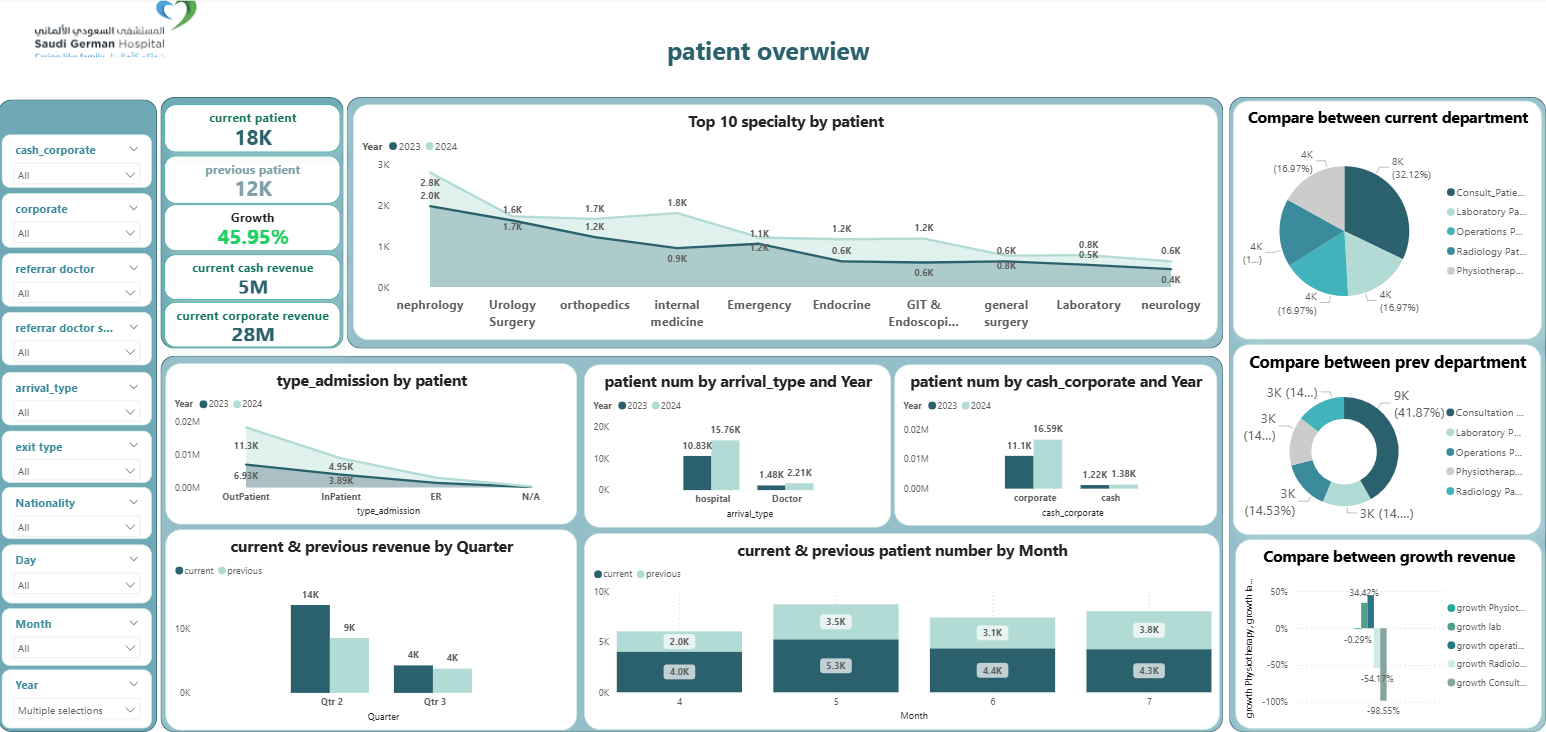

What the dashboard file says about the page in this screenshot:
{"tool":"powerbi","page":{"name":"patient Overview ","canvas":[2000,950],"ordinal":2},"visuals":[{"type":"shape","box":[210.1,463.4,1371.5,485.9],"z":0},{"type":"shape","box":[1589.1,129.5,409,819.9],"z":1000},{"type":"shape","box":[450.3,129.5,1131.3,324.6],"z":2000},{"type":"shape","box":[210.1,129.5,236.4,324.6],"z":3000},{"type":"shape","box":[0,132.9,205.4,816.4],"z":4000},{"type":"slicer","fields":{"Values":["Table1.Day"]},"box":[5.2,706,193.3,75.9],"z":5000},{"type":"slicer","fields":{"Values":["Table1.cash_corporate"]},"box":[5.2,177.8,193.3,69],"z":6000},{"type":"slicer","fields":{"Values":["Table1.corporate"]},"box":[5.2,253.7,193.3,70.8],"z":7000},{"type":"slicer","fields":{"Values":["Table1.arrival_type"]},"box":[5.2,483.3,193.3,69],"z":8000},{"type":"slicer","fields":{"Values":["Table1.Nationality"]},"box":[5.2,631.7,193.3,67.3],"z":9000},{"type":"slicer","fields":{"Values":["Table1.exit type"]},"box":[5.2,559.2,193.3,67.3],"z":10000},{"type":"slicer","fields":{"Values":["Table1.referrar doctor specialty"]},"box":[5.2,407.3,193.3,69],"z":11000},{"type":"card","title":"previous patient","fields":{"Values":["Table1.previous"]},"box":[213.9,204.5,227,61.9],"z":12000},{"type":"card","title":"current patient","fields":{"Values":["Table1.current"]},"box":[213.9,138.8,227,61.9],"z":13000},{"type":"card","title":"Growth","fields":{"Values":["Table1.Growth file"]},"box":[213.9,268.3,227,60],"z":14000},{"type":"clusteredColumnChart","title":"current & previous revenue by Quarter","fields":{"Category":["Table1.Quarter"],"Y":["Table1.current","Table1.previous"]},"box":[215.8,686.7,531,258.9],"z":15000},{"type":"slicer","fields":{"Values":["Table1.Month"]},"box":[5.2,788.8,193.3,74.2],"z":16000},{"type":"slicer","fields":{"Values":["Table1.Year"]},"box":[5.2,868.2,193.3,75.9],"z":17000},{"type":"slicer","fields":{"Values":["Table1.referrar doctor"]},"box":[5.2,331.4,193.3,69],"z":18000},{"type":"card","title":"current cash revenue","fields":{"Values":["Table1.total- current revenue"]},"box":[213.9,332.1,227,58.2],"z":19000},{"type":"card","title":"current corporate revenue","fields":{"Values":["Table1.total- current revenue"]},"box":[213.9,394,227,58.2],"z":20000},{"type":"lineStackedColumnComboChart","title":" current & previous patient number by Month","fields":{"Category":["Table1.Month"],"Y":["Table1.current","Table1.previous"]},"box":[756.1,692.3,819.9,253.3],"z":21000},{"type":"areaChart","title":"Top 10 specialty by patient ","fields":{"Category":["Table1.referrar doctor specialty"],"Series":["Table1.Year"],"Y":["CountNonNull(Table1.file number)"]},"box":[457.8,138.8,1116.3,303.9],"z":22000},{"type":"clusteredColumnChart","title":"patient num  by arrival_type and Year","fields":{"Category":["Table1.arrival_type"],"Series":["Table1.Year"],"Y":["CountNonNull(Table1.file number)"]},"box":[756.1,474.7,395.9,210.1],"z":23000},{"type":"clusteredColumnChart","title":"patient num by cash_corporate and Year","fields":{"Category":["Table1.cash_corporate"],"Series":["Table1.Year"],"Y":["CountNonNull(Table1.file number)"]},"box":[1157.6,474.7,416.5,208.3],"z":24000},{"type":"stackedAreaChart","title":" type_admission by  patient","fields":{"Category":["Table1.type_admission"],"Series":["Table1.Year"],"Y":["CountNonNull(Table1.file number)"]},"box":[215.8,472.8,531,208.3],"z":25000},{"type":"pieChart","title":"Compare between  current department","fields":{"Y":["Table1.Consult_PatientCount_Current","Table1.Laboratory PatientCount_Current","Table1.Operations Patient Count_Current","Table1.Radiology Patient Count_Current","Table1.Physiotherapy Patient Count_Current"]},"box":[1594.1,133.9,398.5,308.2],"z":26000},{"type":"donutChart","title":"Compare between prev department","fields":{"Y":["Table1.Consultation PatientCount_previous","Table1.Laboratory PatientCount_previous","Table1.Operations Patient Count_previous","Table1.Physiotherapy Patient Count_previous","Table1.Radiology Patient Count_previous"]},"box":[1594.7,448.4,397.7,245.8],"z":27000},{"type":"shape","box":[566.9,25.4,897.5,83.6],"z":28000},{"type":"image","box":[0,0,303.9,82.6],"z":29000},{"type":"clusteredColumnChart","title":"Compare between growth revenue","fields":{"Y":["Table1.growth Physiotherapy","Table1.growth lab","Table1.growth operation","Table1.growth Radiology","Table1.growth Consultation"]},"box":[1597.3,700.2,395.3,243.6],"z":30000}]}

Visuals, with their boxes in screenshot pixels (x1, y1, x2, y2), scaled from the page's 2000x950 canvas onto the 1546x732 screenshot:
shape: [162,357,1223,731]
shape: [1228,100,1545,731]
shape: [348,100,1223,350]
shape: [162,100,345,350]
shape: [0,102,159,731]
slicer - Table1.Day: [4,544,153,602]
slicer - Table1.cash_corporate: [4,137,153,190]
slicer - Table1.corporate: [4,195,153,250]
slicer - Table1.arrival_type: [4,372,153,426]
slicer - Table1.Nationality: [4,487,153,539]
slicer - Table1.exit type: [4,431,153,483]
slicer - Table1.referrar doctor specialty: [4,314,153,367]
"previous patient" card: [165,158,341,205]
"current patient" card: [165,107,341,155]
"Growth" card: [165,207,341,253]
"current & previous revenue by Quarter" clusteredColumnChart: [167,529,577,729]
slicer - Table1.Month: [4,608,153,665]
slicer - Table1.Year: [4,669,153,727]
slicer - Table1.referrar doctor: [4,255,153,309]
"current cash revenue" card: [165,256,341,301]
"current corporate revenue" card: [165,304,341,348]
" current & previous patient number by Month" lineStackedColumnComboChart: [584,533,1218,729]
"Top 10 specialty by patient " areaChart: [354,107,1217,341]
"patient num  by arrival_type and Year" clusteredColumnChart: [584,366,890,528]
"patient num by cash_corporate and Year" clusteredColumnChart: [895,366,1217,526]
" type_admission by  patient" stackedAreaChart: [167,364,577,525]
"Compare between  current department" pieChart: [1232,103,1540,341]
"Compare between prev department" donutChart: [1233,346,1540,535]
shape: [438,20,1132,84]
image: [0,0,235,64]
"Compare between growth revenue" clusteredColumnChart: [1235,540,1540,727]
